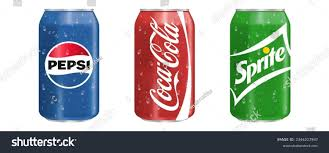can: (129, 5, 205, 124), (225, 6, 301, 125), (33, 6, 107, 125)
